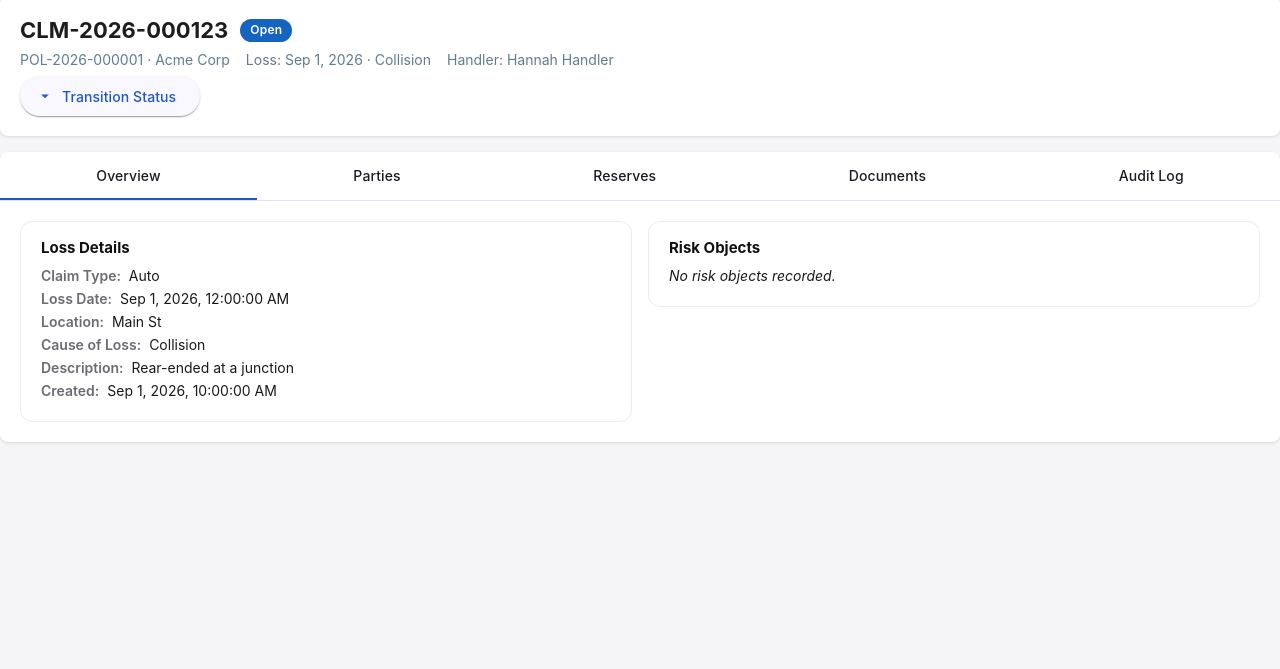
Scenario: ClaimDetailComponent › F-11: reserve approval buttons are role-gated › disables Adjust while the reserve has a change pending approval
This screenshot has width=1280, height=669.
Click the tab "Reserves" at (625, 176), box top-left (593, 167), bottom-right (656, 184)
(page scrolled)
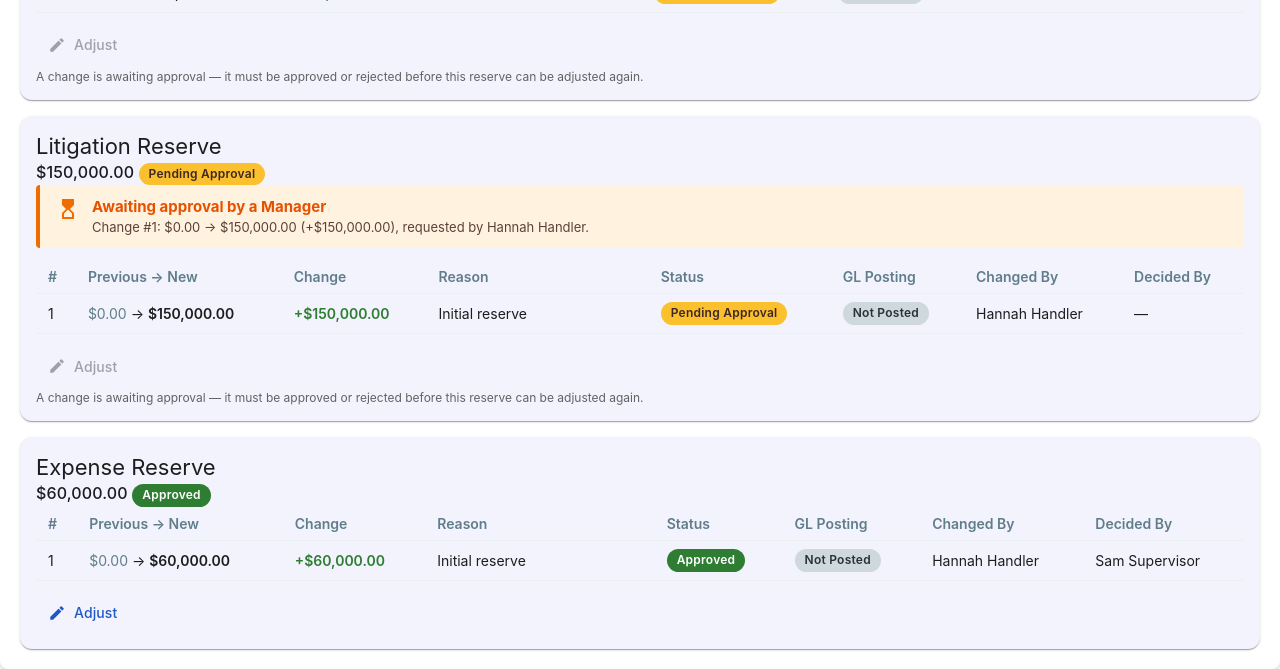
Check: the button "MatButtonHarness" is disabled, box top-left (36, 25), bottom-right (133, 65)
Check: the button "MatButtonHarness" is enabled, box top-left (36, 593), bottom-right (133, 633)
